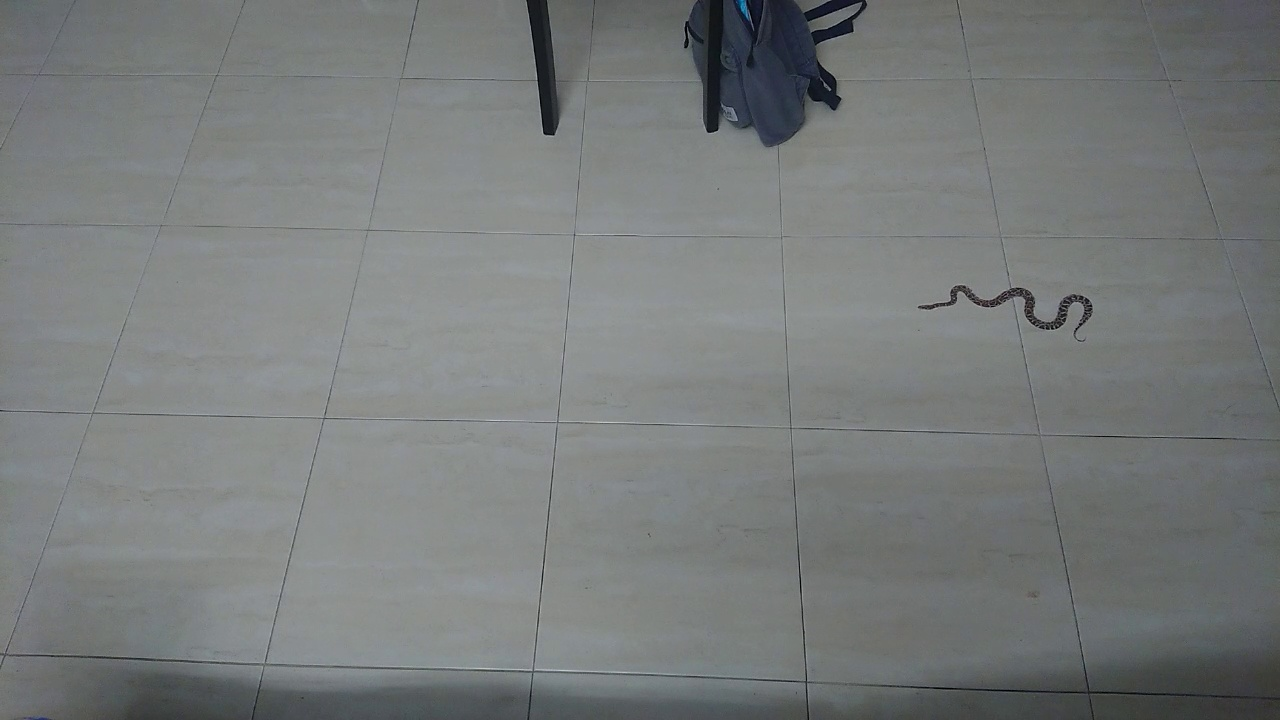snake: (905, 276, 1100, 346)
